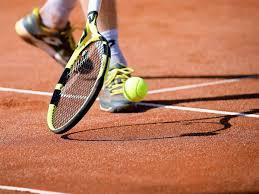tennis ball: (123, 77, 148, 101)
tennis racket: (49, 0, 110, 133)
